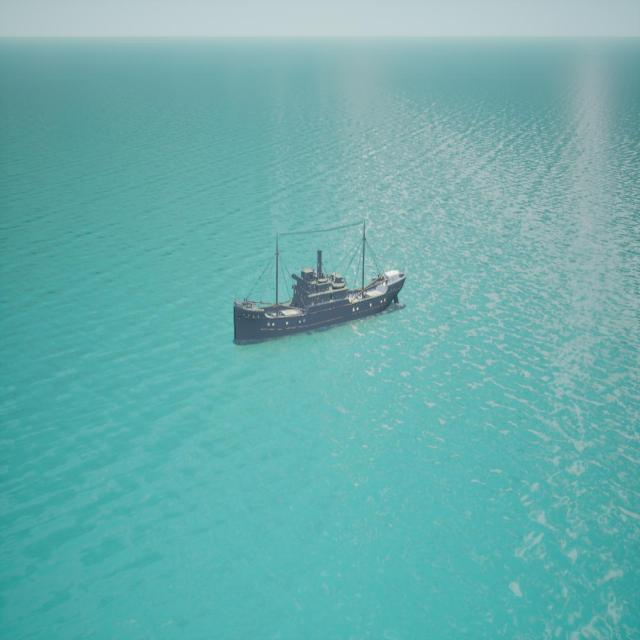fishing ship: (233, 229, 407, 347)
